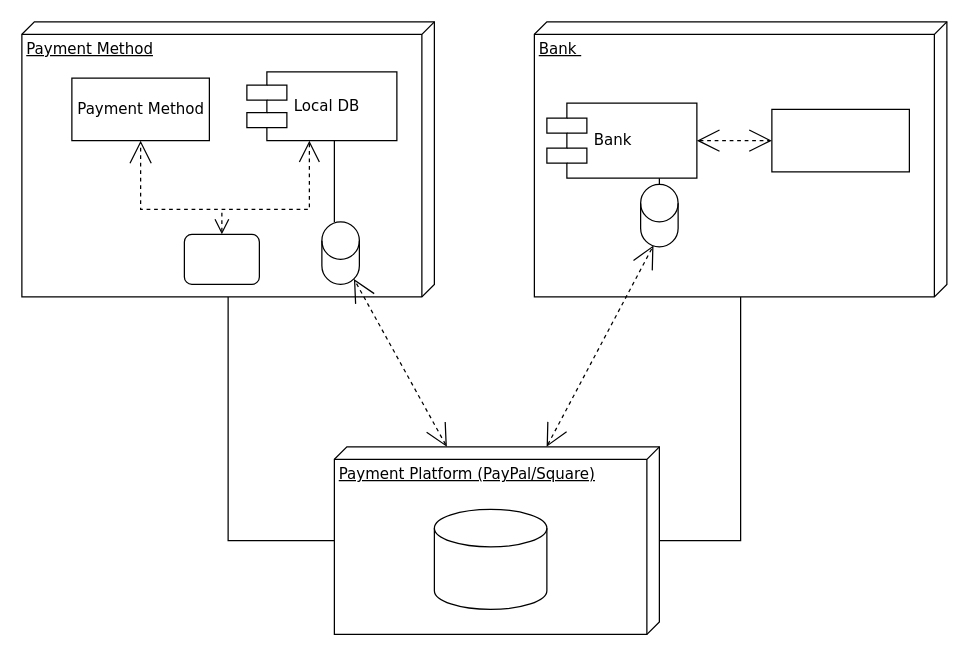
The diagram is 969 pixels wide and 656 high, and some of its shapes have lost their labels. The shapes that lost their labels are listed below. From the top down, each one's centre as x and y in pixels, then its label:
At point 840,140: "Checks User Funds".
At point 221,258: "Confirm Payment Method".
At point 490,558: "PayPal/Square DB".
